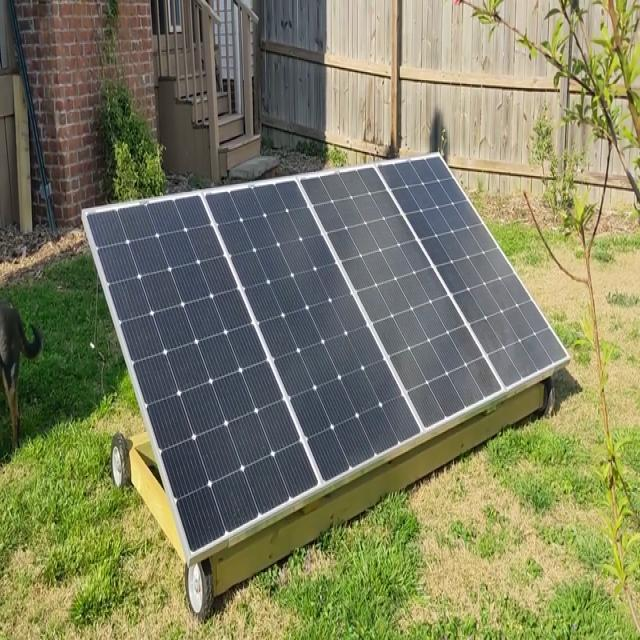Normal Solar Panel: (83, 153, 568, 562)
